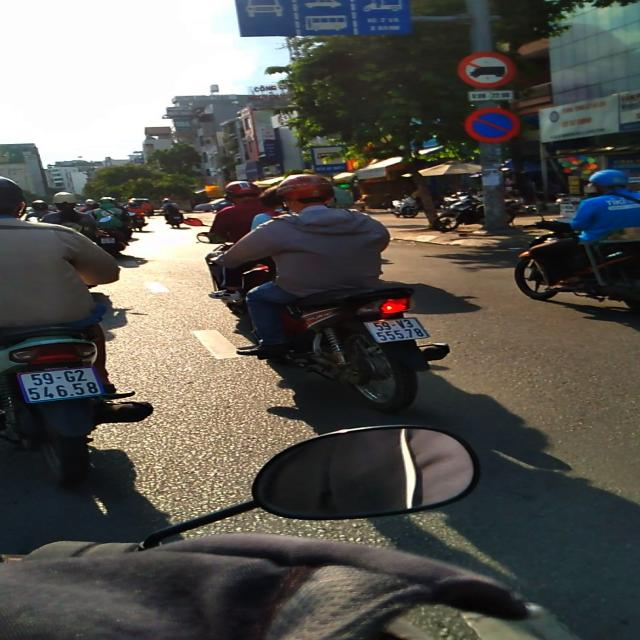Cam con lai: (456, 51, 516, 89)
Cam do: (464, 107, 520, 144)
